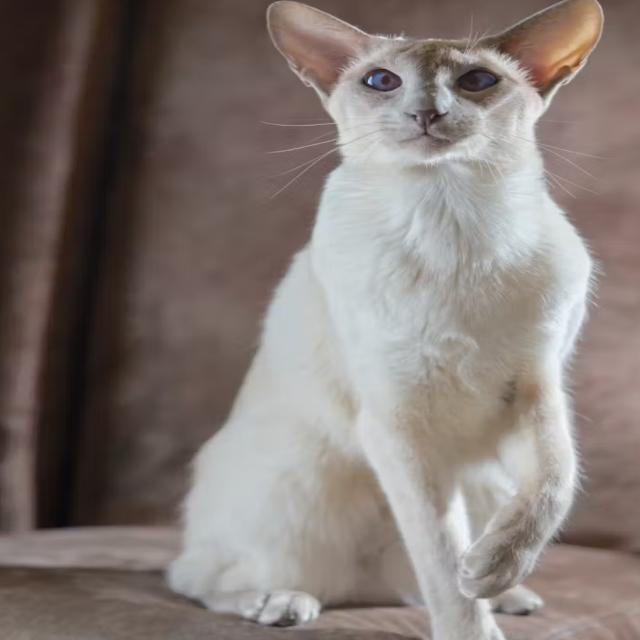Oriental: (159, 0, 608, 640)
